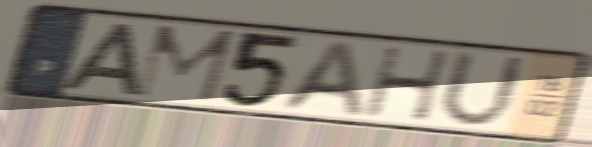5: (218, 30, 307, 111)
A: (273, 38, 369, 121), (58, 21, 142, 97)
H: (361, 45, 454, 124)
M: (129, 22, 241, 105)
U: (434, 47, 530, 131)
